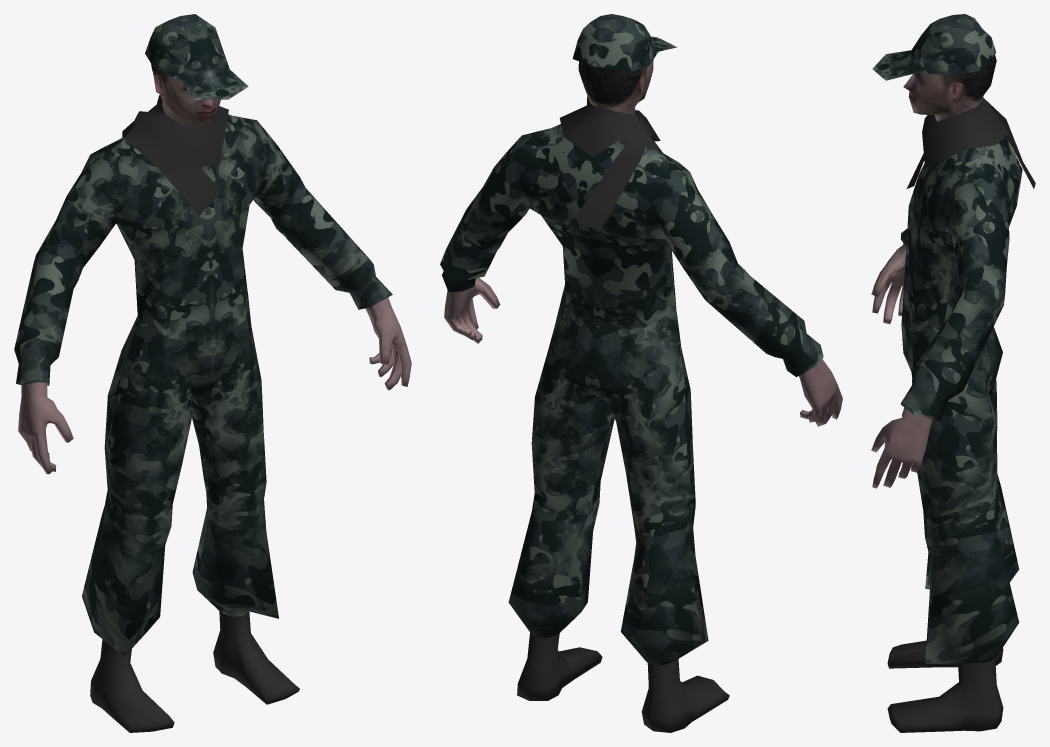
Rendered from SM_Soldier.fbx.
3 renders of one model, left to right at view 1: azimuth 30°, elevation 25°; view 2: azimuth 150°, elevation 25°; view 3: azimuth 270°, elevation 25°, orthographic.
Parts seen in each view (by area): view 1: SM_Soldier; view 2: SM_Soldier; view 3: SM_Soldier.
Boxes of the visible parts, x1,y1,x2,y2 form: SM_Soldier: (14,14,411,732); SM_Soldier: (440,14,842,732); SM_Soldier: (871,14,1035,732).
Size of the model in its own units: 275 by 473 by 105.
1 material, 1 textured.
